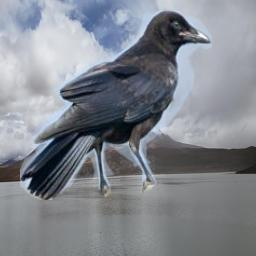Crow: (20, 10, 212, 200)
